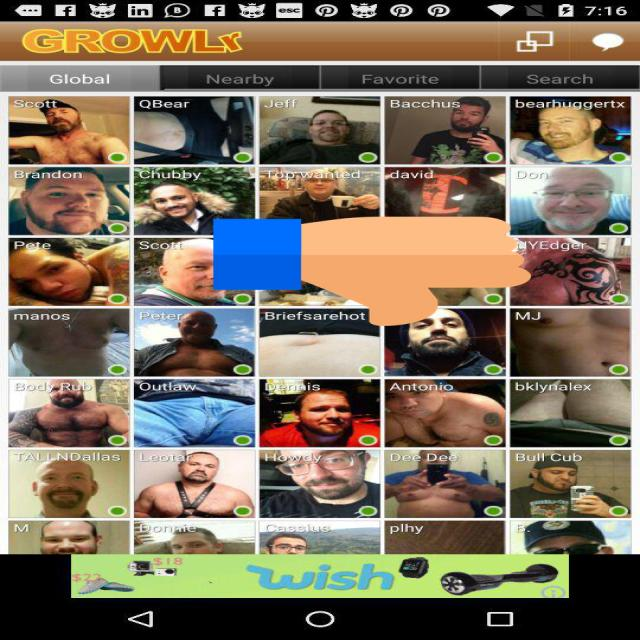obstruction: (213, 214, 531, 329)
